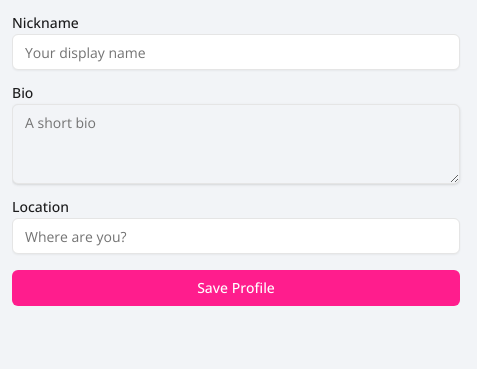
Test: EditProfileForm › shows error state on non-200 response
This screenshot has width=477, height=369.
Click the button "Save Profile": (236, 288) [12, 270, 460, 306]
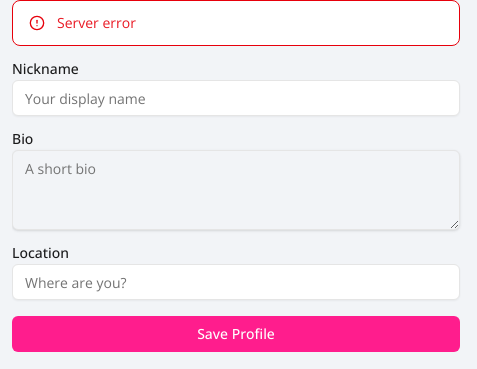
Expected: the text "Server error" is shown, [57, 13, 136, 32]
